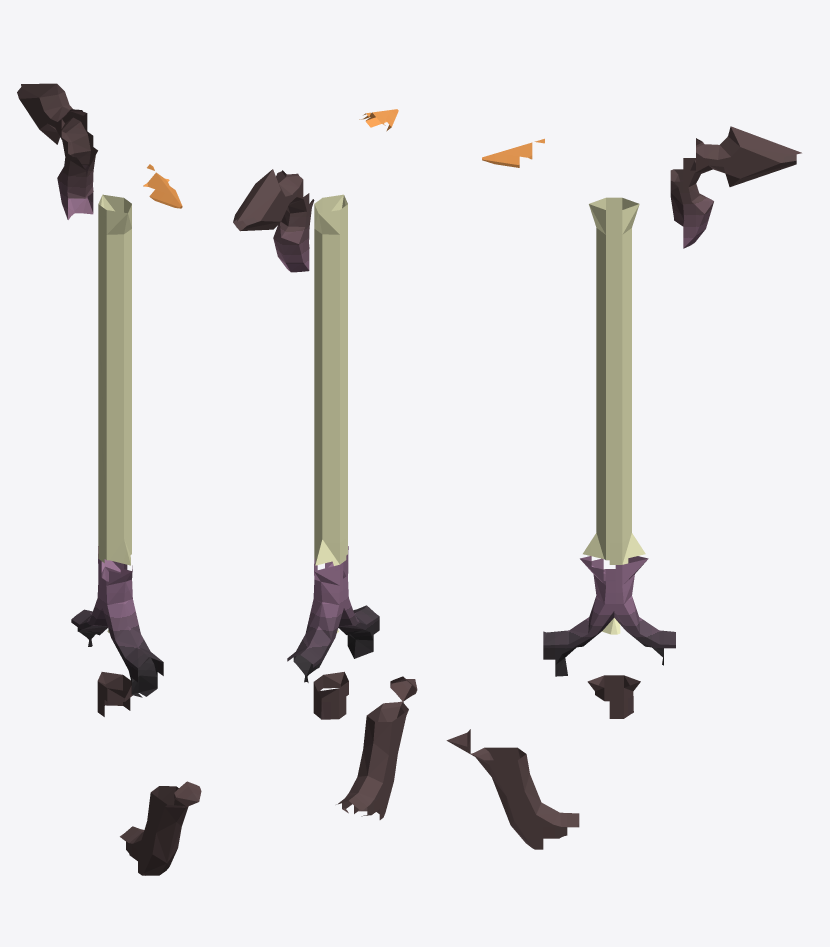
The model's file is midnightroar.obj.
The picture shows the model from 3 angles, left to right: view 1: azimuth 30°, elevation 25°; view 2: azimuth 150°, elevation 25°; view 3: azimuth 270°, elevation 25°; orthographic projection.
Bounding box in the file's own units: 3.07 × 105 × 38.29.
